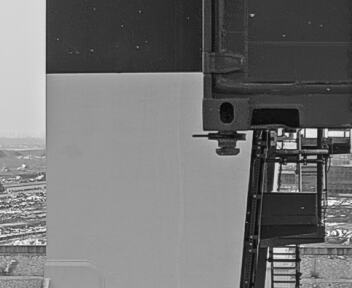twist_lock_1: (202, 123, 251, 162)
